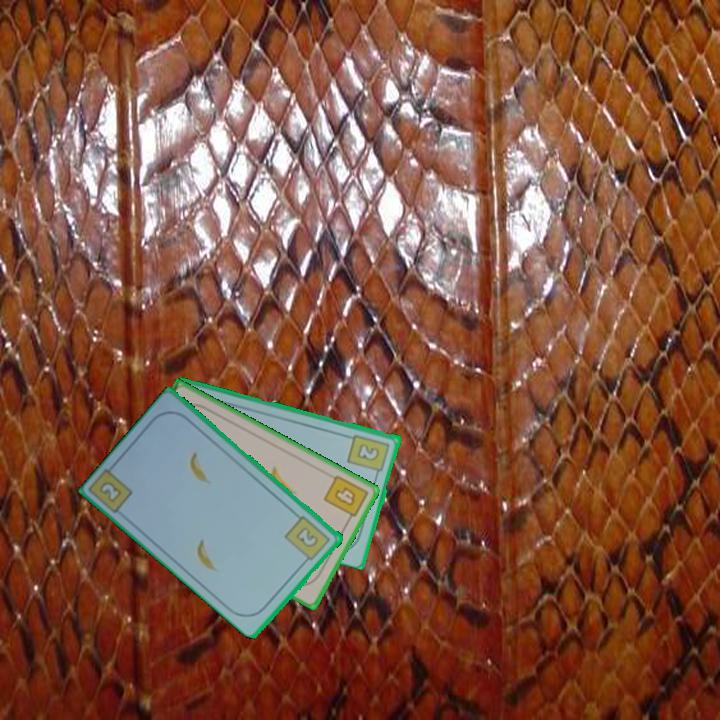2b: (282, 512, 333, 566), (345, 430, 393, 480), (98, 478, 125, 505)
4b: (320, 471, 371, 526)
